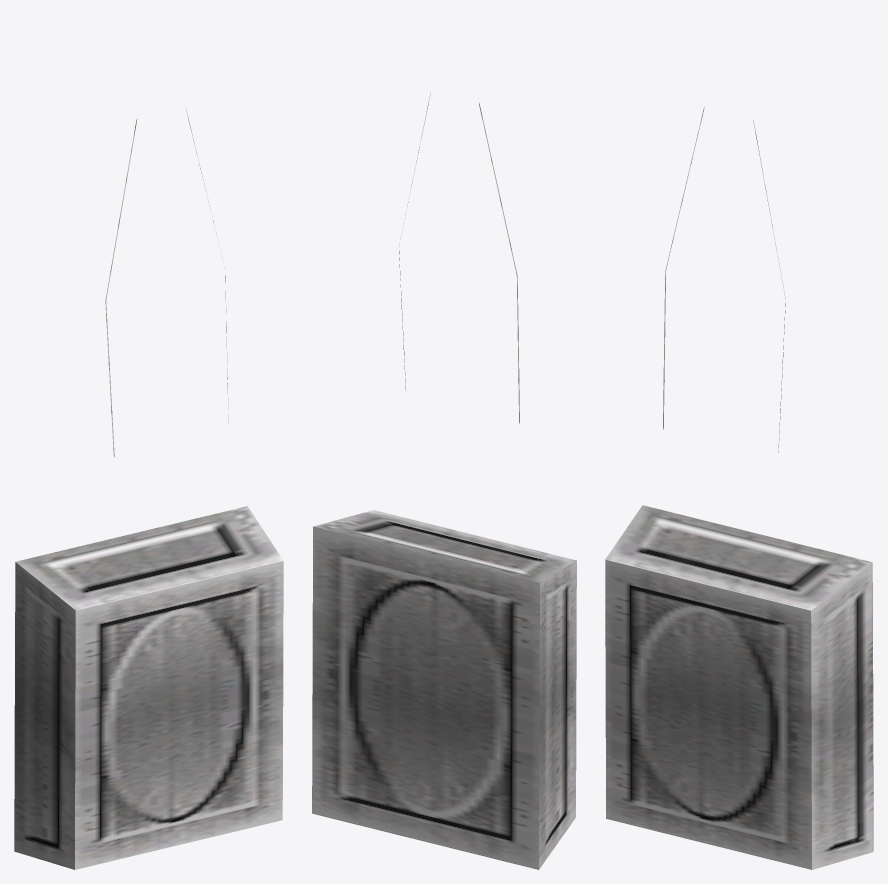
The model's file is earring_s03_l0.fbx.
3 views of the same model, side by side, from view 1: azimuth 30°, elevation 25°; view 2: azimuth 150°, elevation 25°; view 3: azimuth 330°, elevation 25° (orthographic).
Visible parts, largest first — view 1: mesh_node; view 2: mesh_node; view 3: mesh_node.
Boxes of the visible parts, box(x1,y1,x2,y2) form: mesh_node: box(14, 109, 283, 869); mesh_node: box(312, 92, 576, 869); mesh_node: box(605, 107, 873, 869).
Size of the model in its own units: 0.0229 by 0.0779 by 0.00872.
